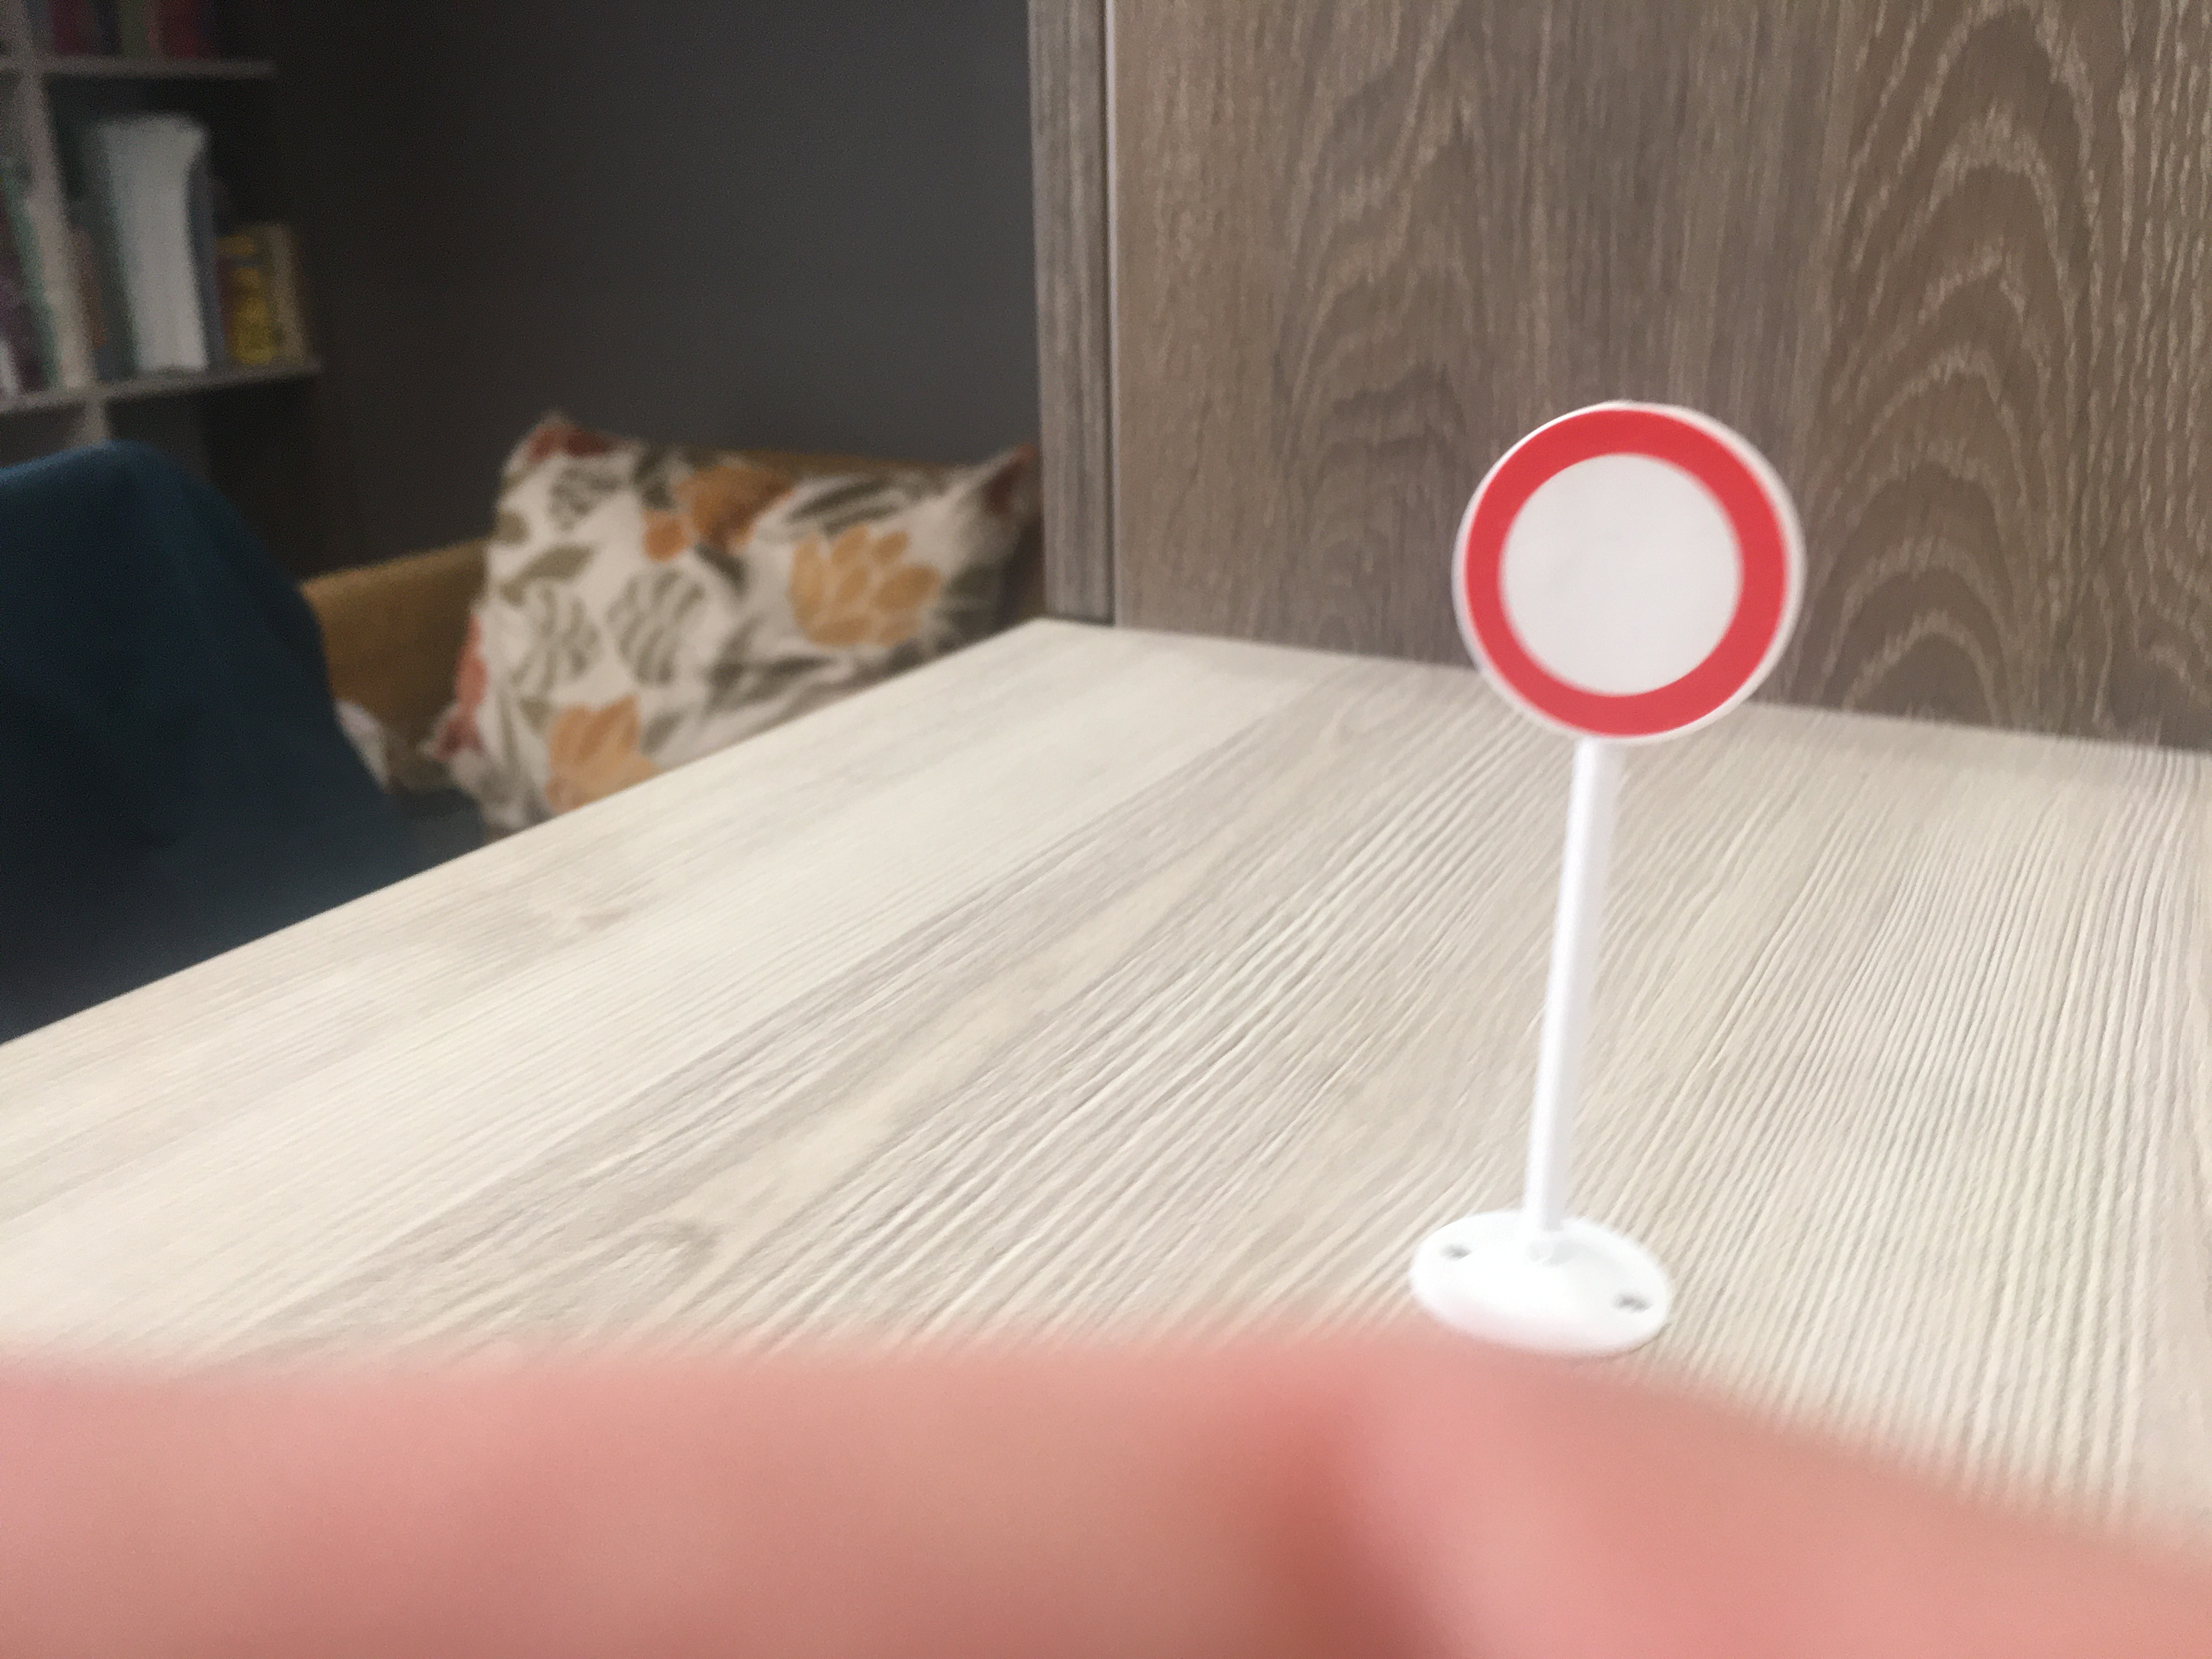noDrive: (1449, 403, 1804, 741)
